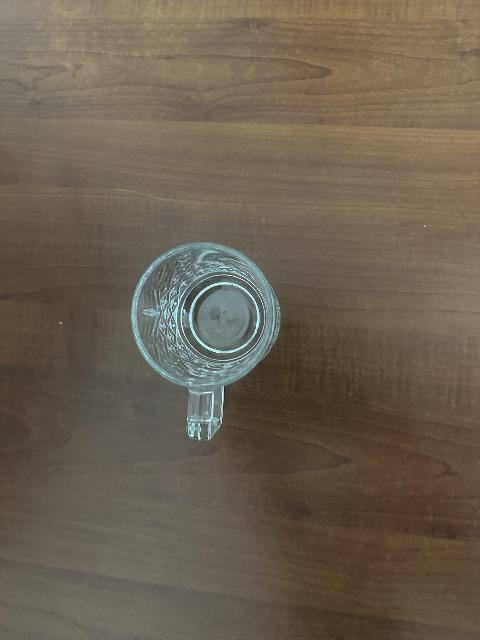Cam: (127, 241, 279, 440)
